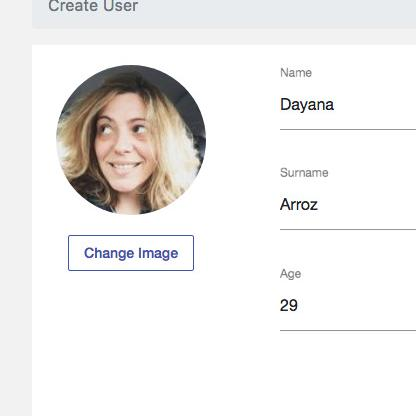button: (65, 234, 195, 273)
